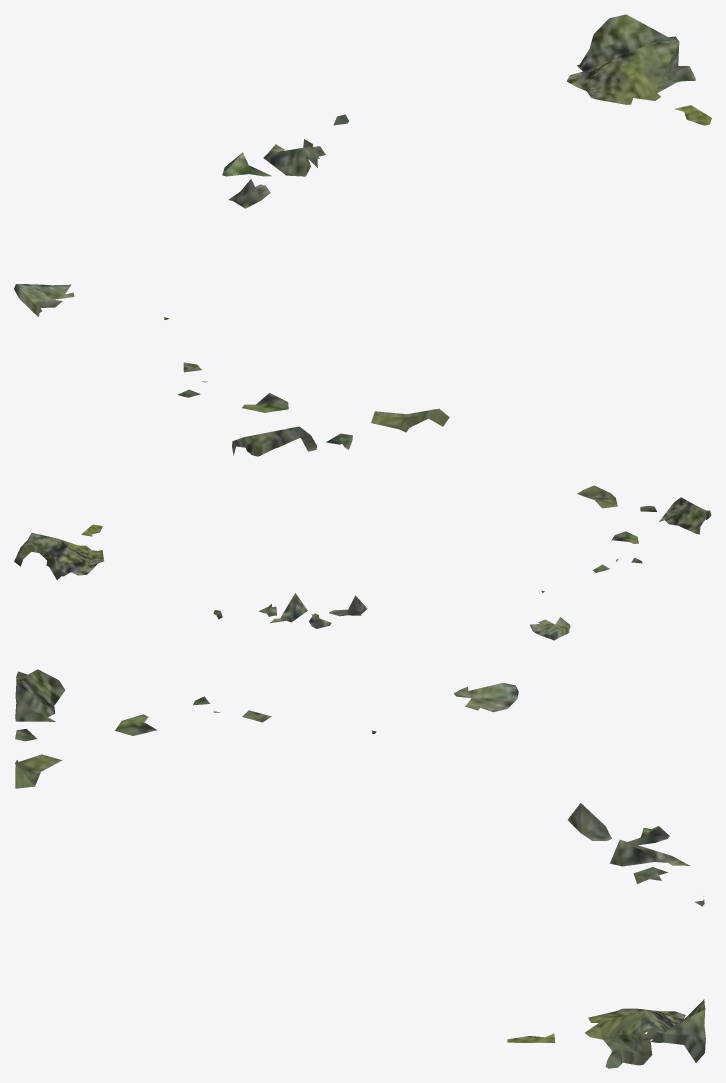
The picture shows the model from 3 angles, top to bottom: view 1: azimuth 30°, elevation 25°; view 2: azimuth 150°, elevation 25°; view 3: azimuth 270°, elevation 25°; orthographic projection. The views are drawn at different scales.
Parts seen in each view (by area): view 1: Mesh_0.281; view 2: Mesh_0.281; view 3: Mesh_0.281.
Part boxes in pixels (x1,y1,x2,y2): Mesh_0.281: (14, 14, 711, 456); Mesh_0.281: (14, 485, 711, 640); Mesh_0.281: (15, 669, 705, 1068).
Bounding box in the file's own units: 97.72 × 6.11 × 77.65.
1 material, 1 textured.
